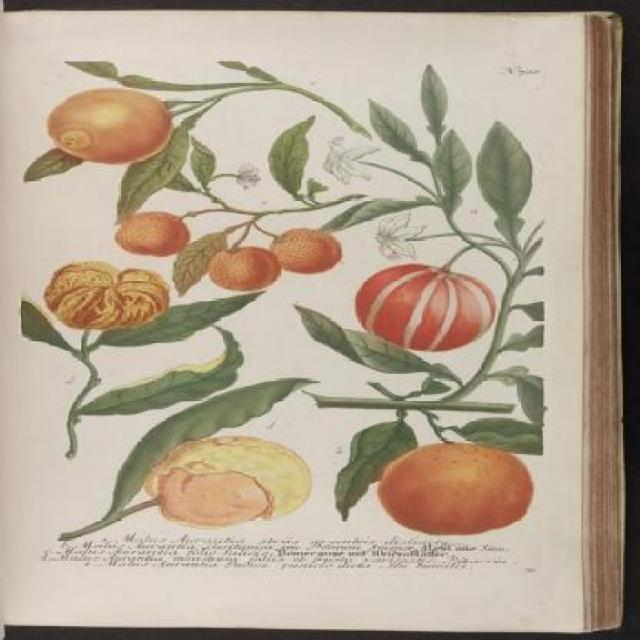Peach: (374, 441, 536, 536), (115, 210, 192, 258), (207, 246, 281, 291), (273, 227, 339, 273)
